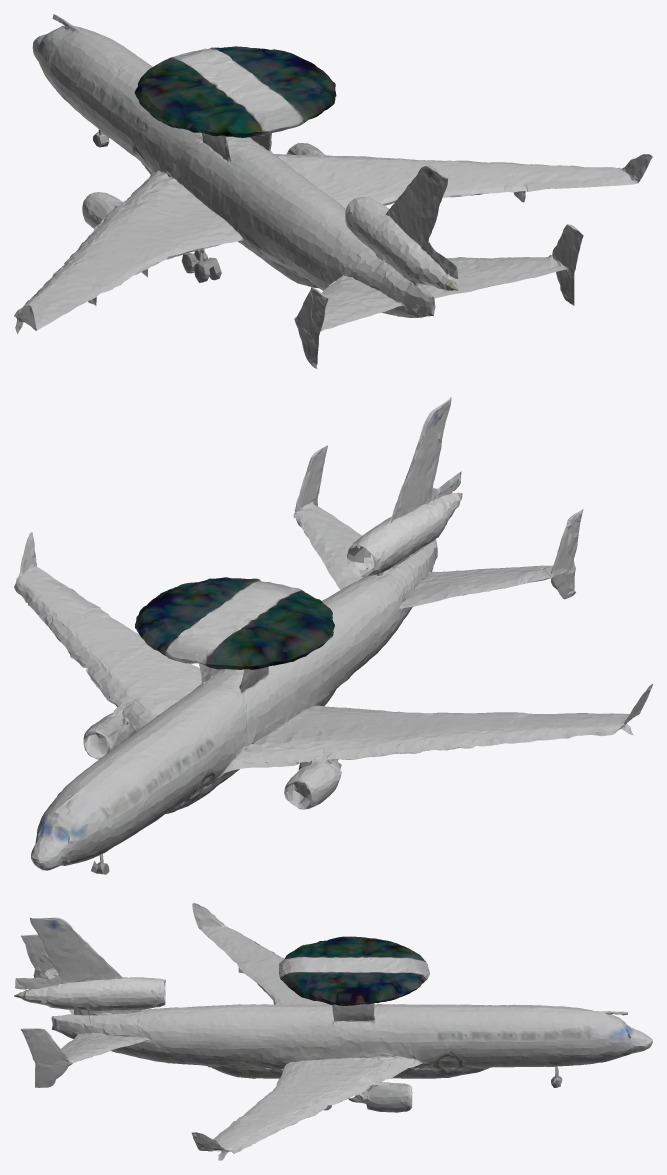
3 renders of one model, top to bottom at view 1: azimuth 30°, elevation 25°; view 2: azimuth 150°, elevation 25°; view 3: azimuth 270°, elevation 25°, orthographic. The views are drawn at different scales.
Visible parts, largest first — view 1: defaultobject; view 2: defaultobject; view 3: defaultobject.
Part boxes in pixels (bbox=[...]): defaultobject: bbox=[14, 14, 652, 368]; defaultobject: bbox=[14, 397, 652, 874]; defaultobject: bbox=[14, 903, 652, 1160].
Size of the model in its own units: 0.7909 by 0.2711 by 0.9318.
